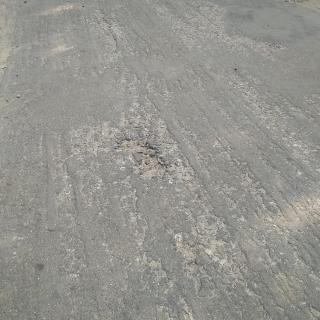pothole: (116, 140, 169, 180)
